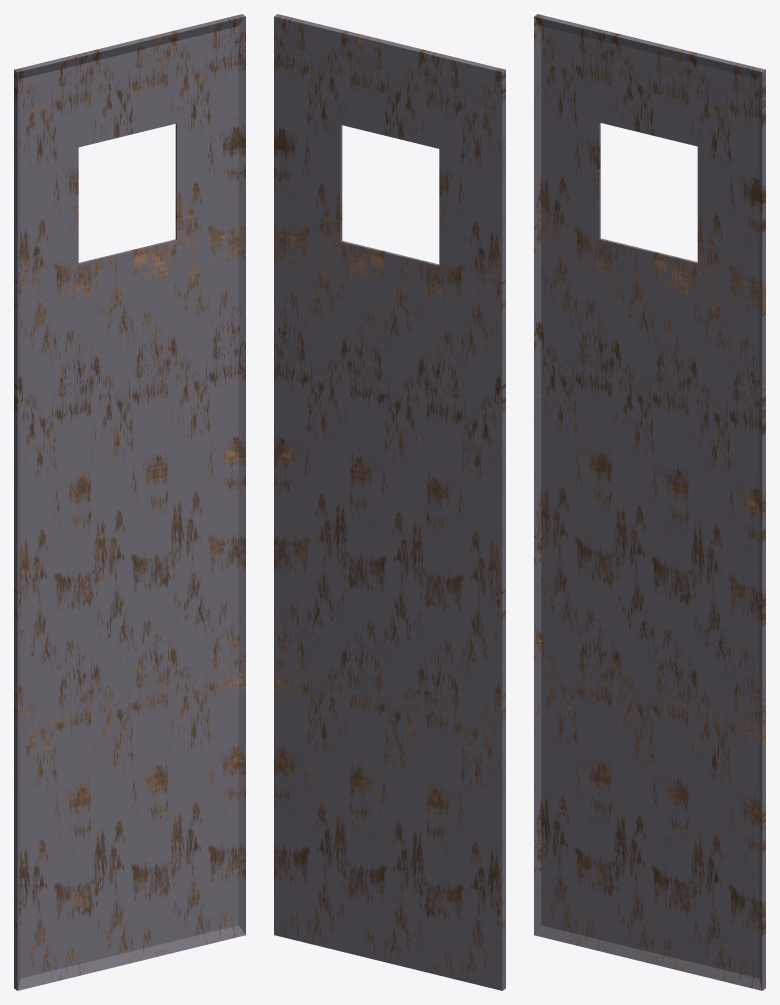
Rendered from armario_porta_TEXTURIZADA.fbx.
The picture shows the model from 3 angles, left to right: view 1: azimuth 30°, elevation 25°; view 2: azimuth 150°, elevation 25°; view 3: azimuth 330°, elevation 25°; orthographic projection.
Parts seen in each view (by area): view 1: porta.001; view 2: porta.001; view 3: porta.001.
Part boxes in pixels (x1,y1,x2,y2): porta.001: [14, 14, 245, 990]; porta.001: [274, 14, 505, 990]; porta.001: [534, 14, 765, 990].
Size of the model in its own units: 56.97 by 219 by 1.51.
Materials: 1 (1 with a texture image).
